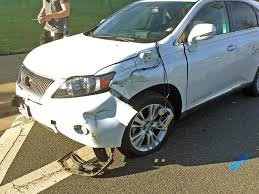Dent: (102, 43, 172, 102), (83, 93, 134, 134)
